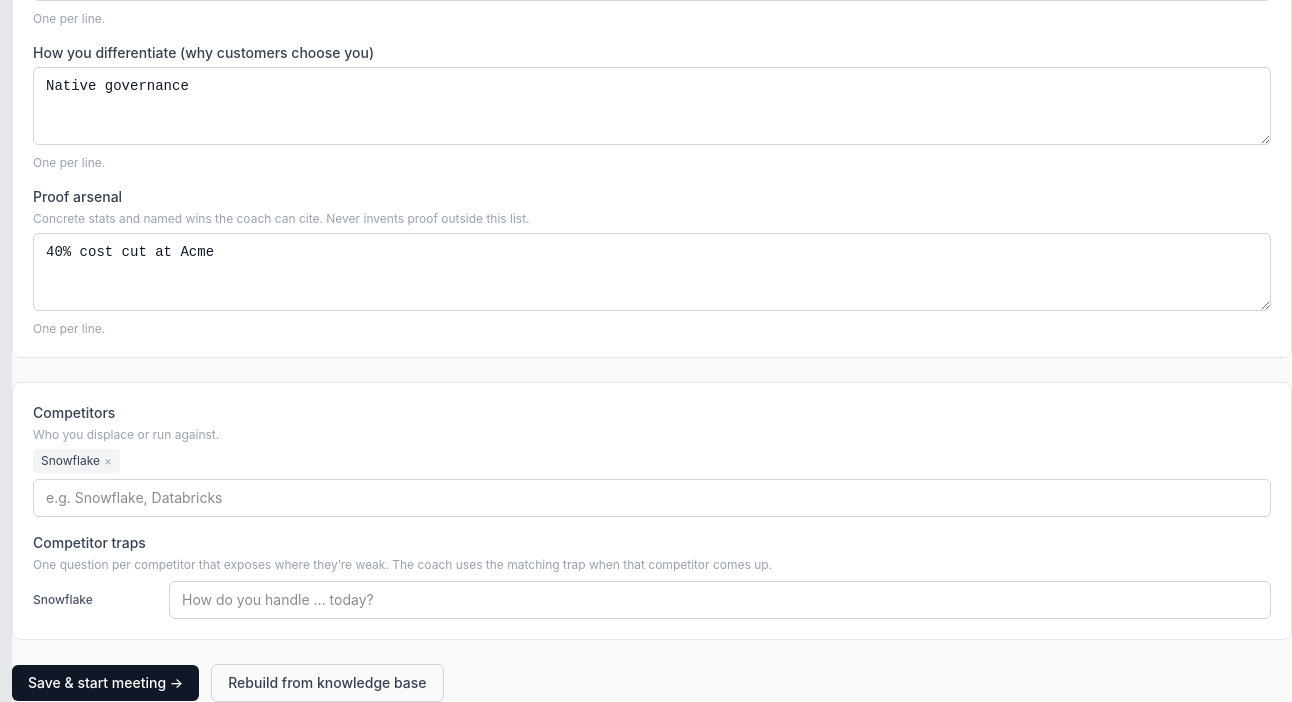
Test: PlaybookEditor › save-and-continue: does NOT continue when the save fails
(page scrolled)
Step 1. Click the button "Save & start meeting →" → x=106, y=683, box x1=12 y1=665 x2=199 y2=701
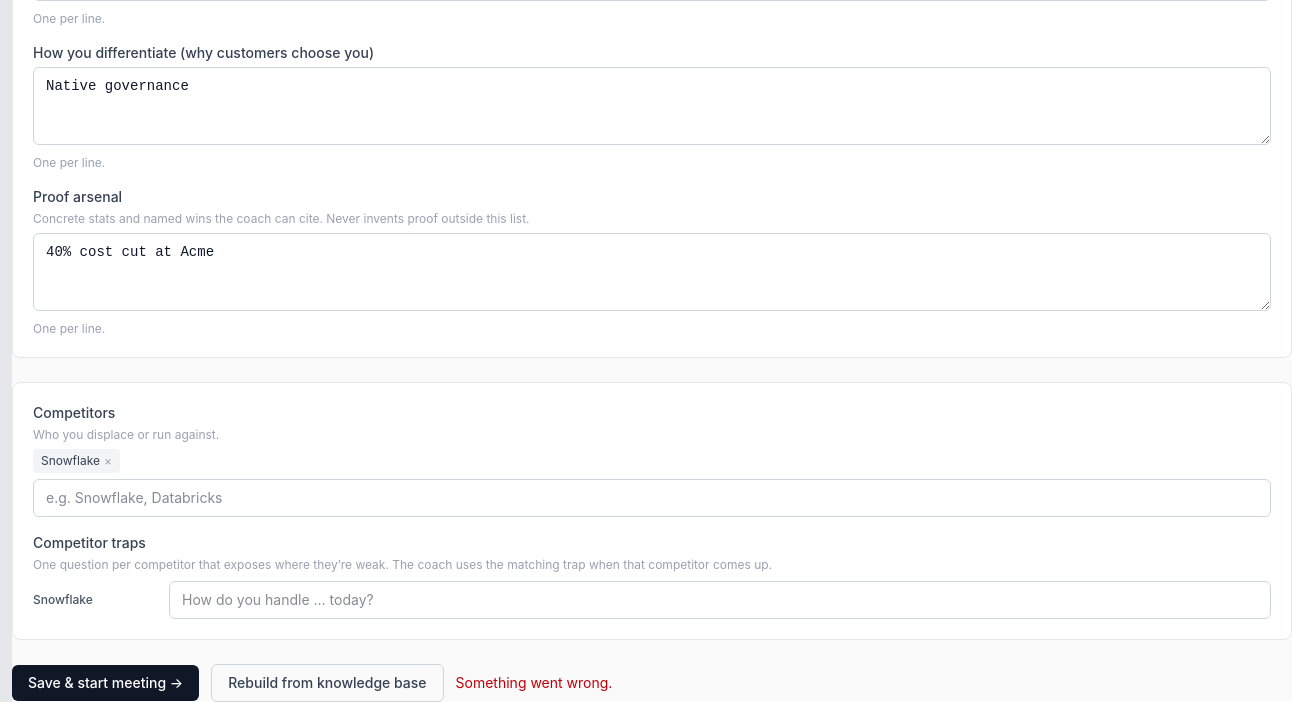
Expected: the text "Something went wrong." is shown, x1=456 y1=673 x2=612 y2=693
